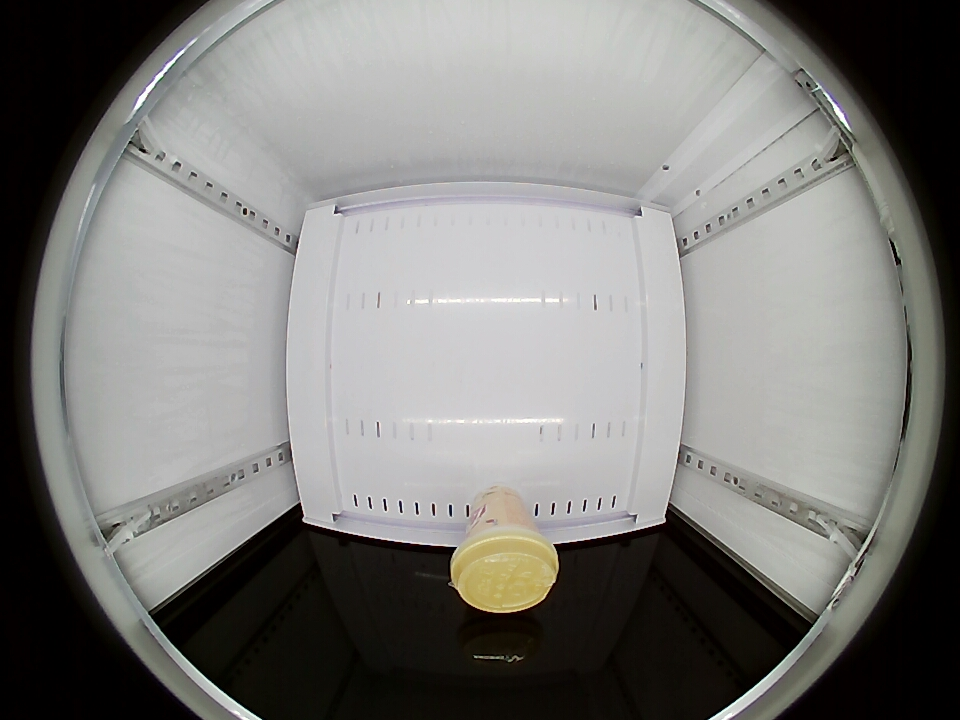youlemei: (451, 523, 559, 613)
